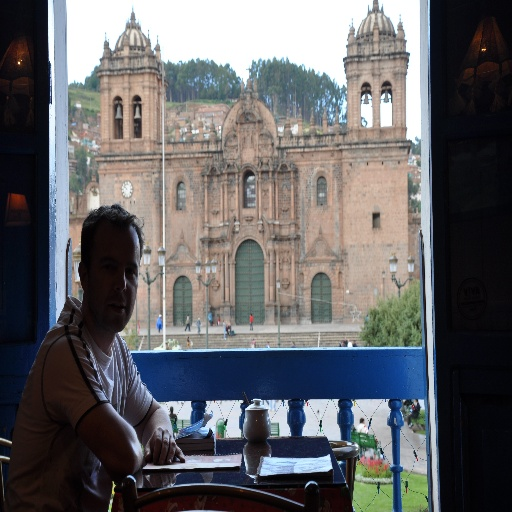hand: (144, 425, 185, 464), (135, 422, 147, 443)
